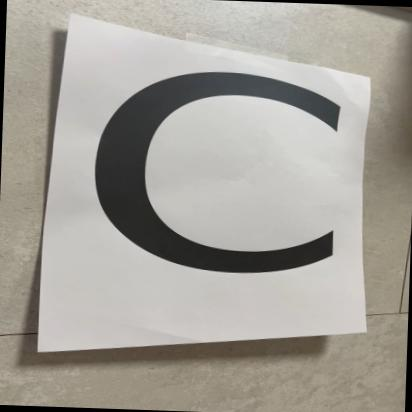seat: (65, 52, 370, 320)
